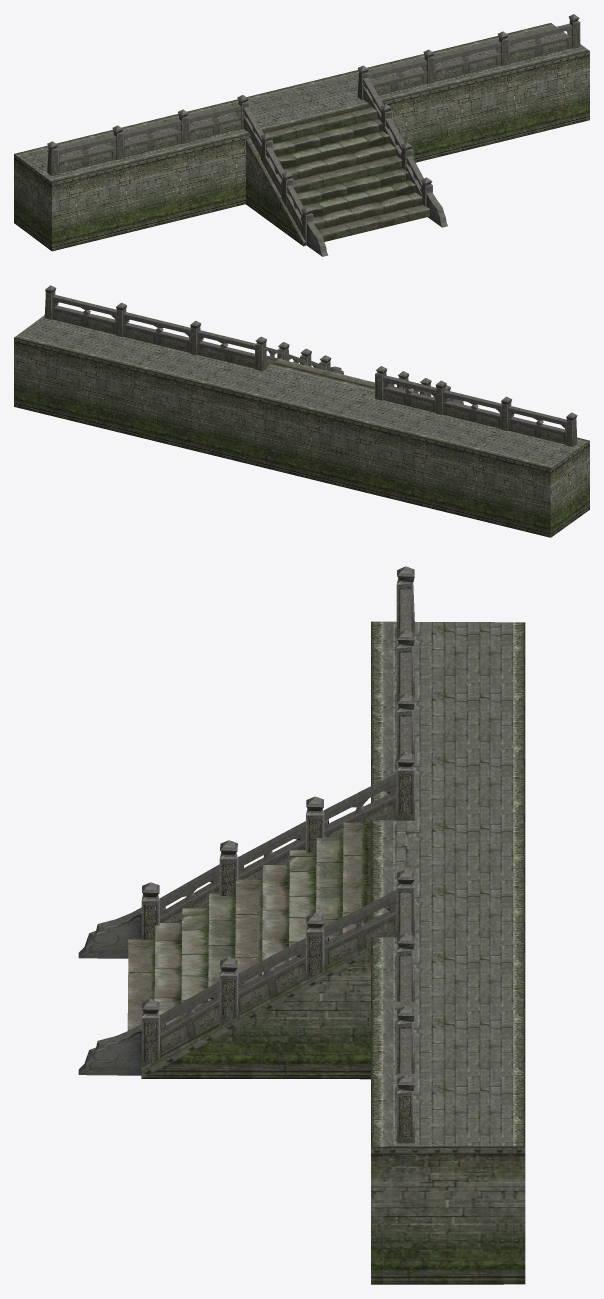
The model's file is lianqizong_taijie04_jz.FBX.
3 renders of one model, top to bottom at view 1: azimuth 30°, elevation 25°; view 2: azimuth 150°, elevation 25°; view 3: azimuth 270°, elevation 25°, orthographic. The views are drawn at different scales.
Parts seen in each view (by area): view 1: lianqizong_taijie04_jz_A01, lianqizong_taijie04_jz_A02, lianqizong_taijie04_jz_A03; view 2: lianqizong_taijie04_jz_A01, lianqizong_taijie04_jz_A02, lianqizong_taijie04_jz_A03; view 3: lianqizong_taijie04_jz_A02, lianqizong_taijie04_jz_A01, lianqizong_taijie04_jz_A03.
Boxes of the visible parts, left/top/right/bottom form: lianqizong_taijie04_jz_A01: left=14, top=51, right=589, bottom=251; lianqizong_taijie04_jz_A02: left=14, top=14, right=589, bottom=256; lianqizong_taijie04_jz_A03: left=263, top=106, right=429, bottom=241; lianqizong_taijie04_jz_A01: left=14, top=338, right=589, bottom=537; lianqizong_taijie04_jz_A02: left=14, top=285, right=589, bottom=468; lianqizong_taijie04_jz_A03: left=273, top=359, right=374, bottom=387; lianqizong_taijie04_jz_A02: left=78, top=566, right=525, bottom=1146; lianqizong_taijie04_jz_A01: left=141, top=946, right=525, bottom=1284; lianqizong_taijie04_jz_A03: left=127, top=822, right=370, bottom=1030.
Size of the model in its own units: 1230 by 223 by 443.
